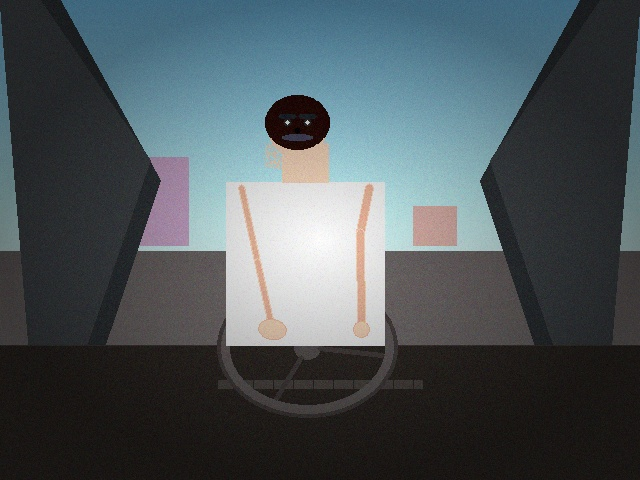normal_driving: (99, 189, 307, 347)
